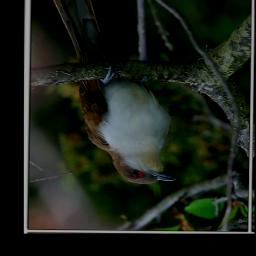Cuckoo: (36, 0, 182, 186)
